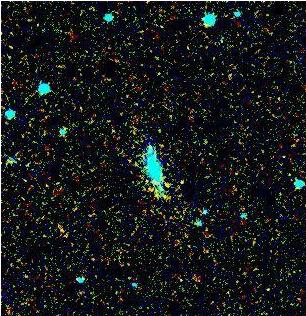star: (154, 168, 184, 198)
